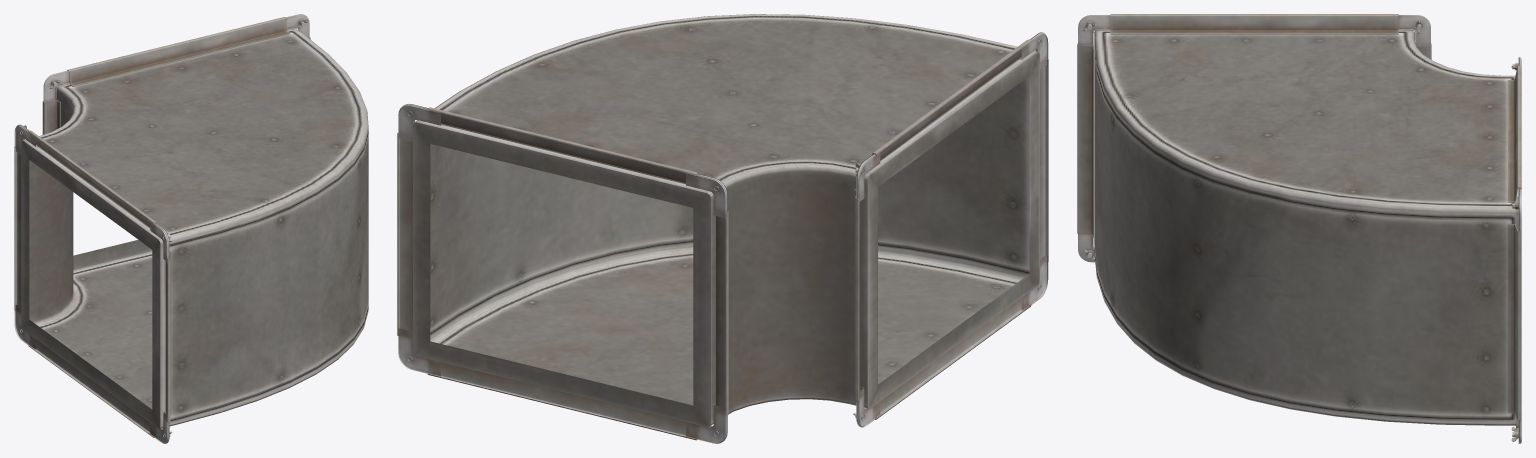
File: round-corner.glb
3 renders of one model, left to right at view 1: azimuth 30°, elevation 25°; view 2: azimuth 150°, elevation 25°; view 3: azimuth 270°, elevation 25°, orthographic. The views are drawn at different scales.
Visible parts, largest first — view 1: modular_airduct_rectangular_01_bend_02; view 2: modular_airduct_rectangular_01_bend_02; view 3: modular_airduct_rectangular_01_bend_02.
Part boxes in pixels (box(x1,y1,x2,y2)): modular_airduct_rectangular_01_bend_02: box(14, 14, 368, 443); modular_airduct_rectangular_01_bend_02: box(397, 14, 1048, 443); modular_airduct_rectangular_01_bend_02: box(1077, 14, 1521, 443).
Bounding box in the file's own units: 0.8318 × 0.5126 × 0.8318.
1 material, 1 textured.
